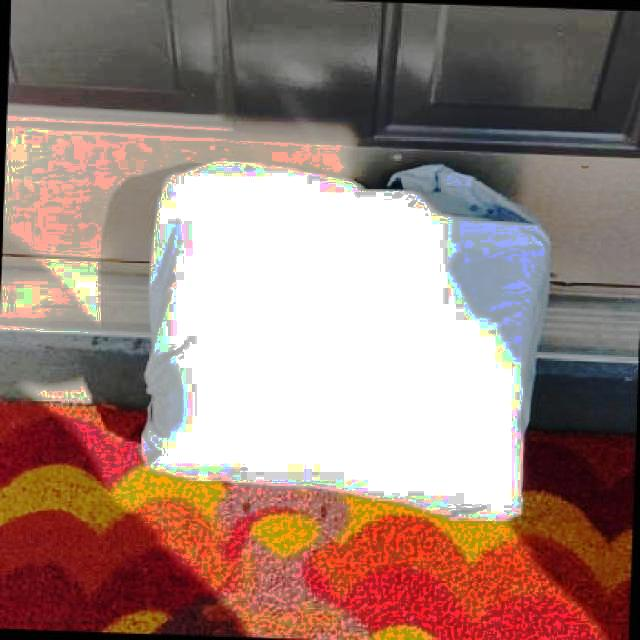Box: (140, 155, 554, 522)
